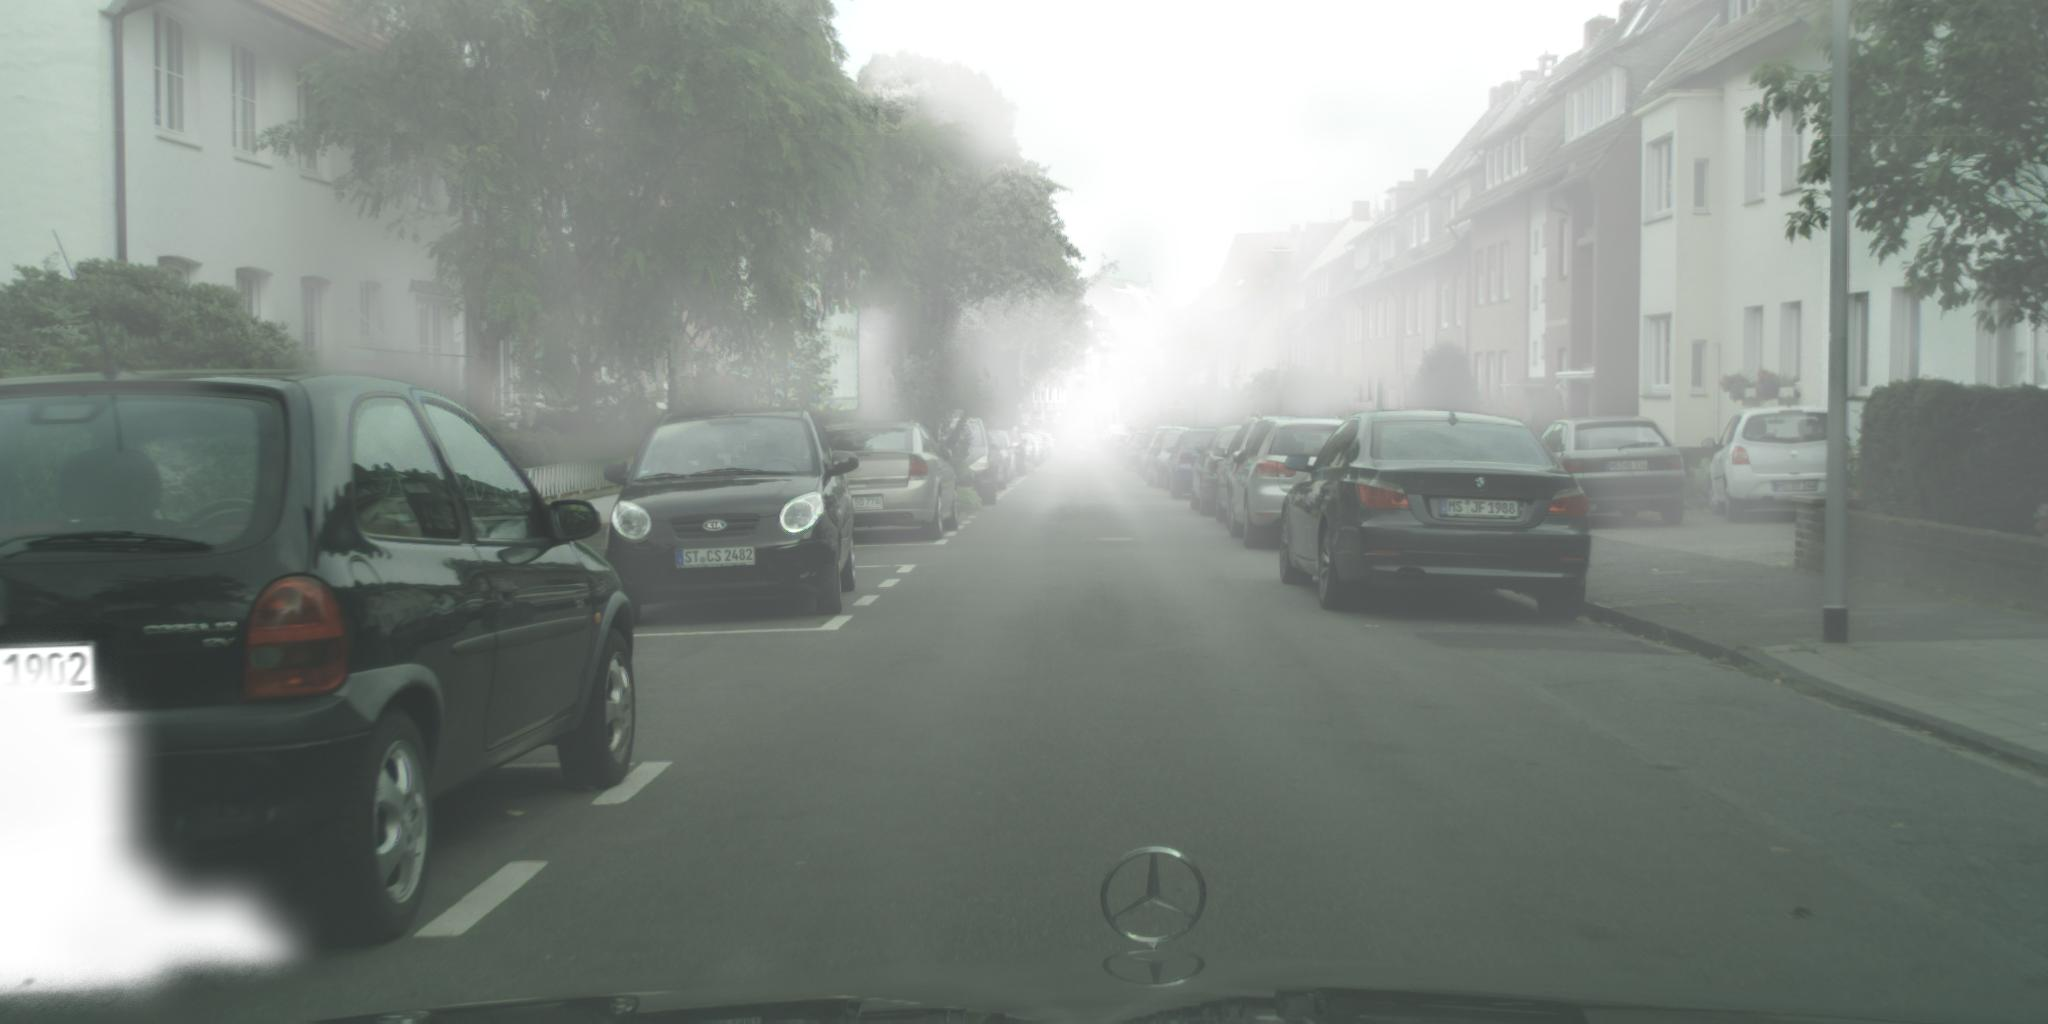car: (1, 370, 637, 952), (1280, 410, 1592, 623), (603, 408, 859, 628), (1702, 408, 1855, 524), (1229, 415, 1358, 551), (1536, 415, 1688, 528), (815, 423, 959, 541), (1217, 413, 1307, 529), (933, 418, 999, 507), (1191, 426, 1246, 519), (1165, 428, 1223, 502), (1138, 424, 1192, 482), (1147, 431, 1190, 488), (984, 427, 1029, 477), (984, 432, 1014, 491), (985, 431, 1020, 481), (1118, 432, 1153, 473), (1105, 434, 1136, 462), (1015, 434, 1037, 470), (1027, 434, 1048, 466), (1027, 434, 1044, 468), (1105, 426, 1128, 445), (1037, 434, 1053, 462), (1093, 434, 1112, 455), (1078, 435, 1100, 452), (1042, 434, 1057, 456)
